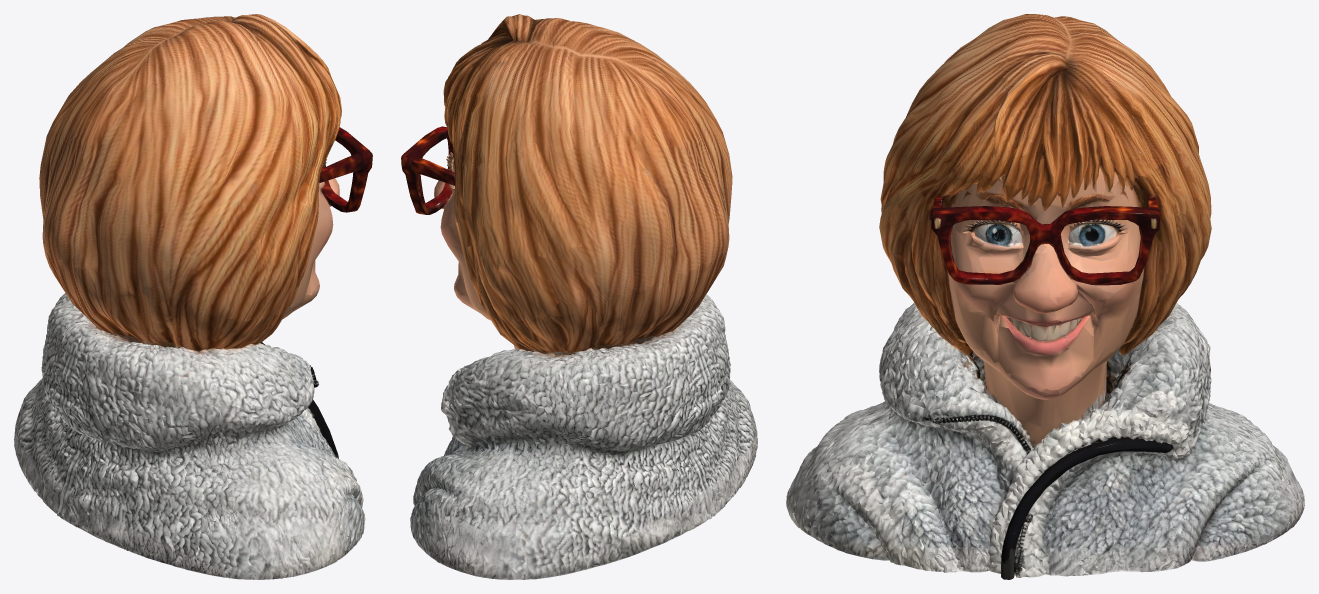
Rendered from avatar.glb.
The picture shows the model from 3 angles, left to right: view 1: azimuth 30°, elevation 25°; view 2: azimuth 150°, elevation 25°; view 3: azimuth 270°, elevation 25°; orthographic projection. The views are drawn at different scales.
Parts seen in each view (by area): view 1: Mesh_0; view 2: Mesh_0; view 3: Mesh_0.
Boxes of the visible parts, <box> form: Mesh_0: <box>14,14,372,579</box>; Mesh_0: <box>401,14,757,579</box>; Mesh_0: <box>786,14,1304,579</box>.
Bounding box in the file's own units: 1.25 × 1.9 × 1.82.
1 material, 1 textured.
